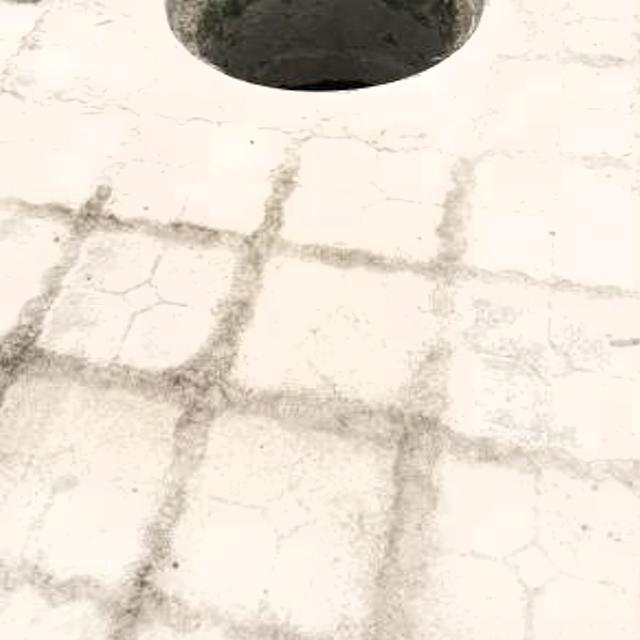lose: (158, 0, 503, 98)
